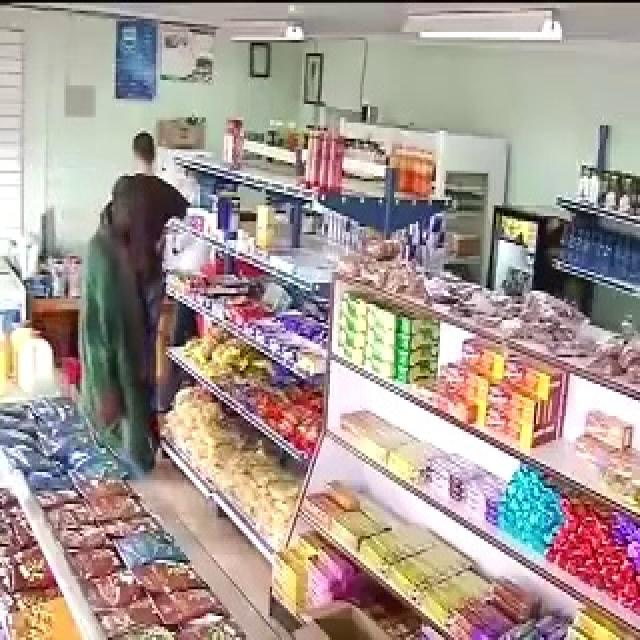normal: (76, 160, 152, 475), (118, 118, 182, 226)
